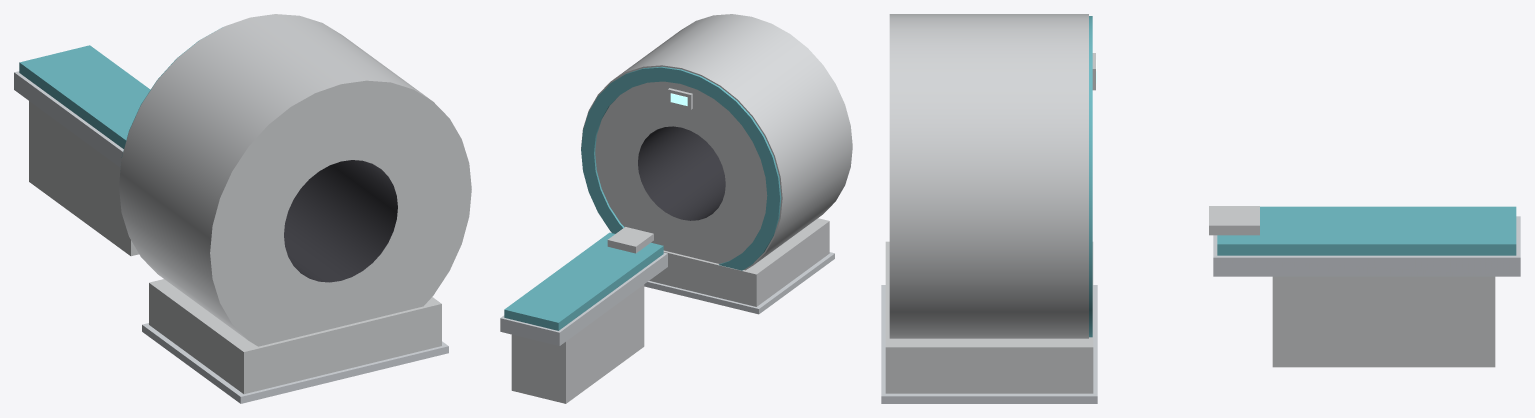
Rendered from mriMachine_v1.fbx.
3 views of the same model, side by side, from view 1: azimuth 30°, elevation 25°; view 2: azimuth 150°, elevation 25°; view 3: azimuth 270°, elevation 25° (orthographic). The views are drawn at different scales.
Visible parts, largest first — view 1: 01_MRIScanner_Intact_Gantry_Body, 01_MRIScanner_Intact_Bed_Cushion; view 2: 01_MRIScanner_Intact_Gantry_Body, 01_MRIScanner_Intact_Bed_Cushion; view 3: 01_MRIScanner_Intact_Gantry_Body, 01_MRIScanner_Intact_Bed_Cushion.
Part boxes in pixels (bbox=[...]): 01_MRIScanner_Intact_Gantry_Body: bbox=[119, 14, 471, 403]; 01_MRIScanner_Intact_Bed_Cushion: bbox=[14, 45, 150, 256]; 01_MRIScanner_Intact_Gantry_Body: bbox=[581, 14, 852, 314]; 01_MRIScanner_Intact_Bed_Cushion: bbox=[500, 227, 667, 403]; 01_MRIScanner_Intact_Gantry_Body: bbox=[881, 14, 1097, 403]; 01_MRIScanner_Intact_Bed_Cushion: bbox=[1209, 206, 1520, 367].
Size of the model in its own units: 156 by 166 by 301.
